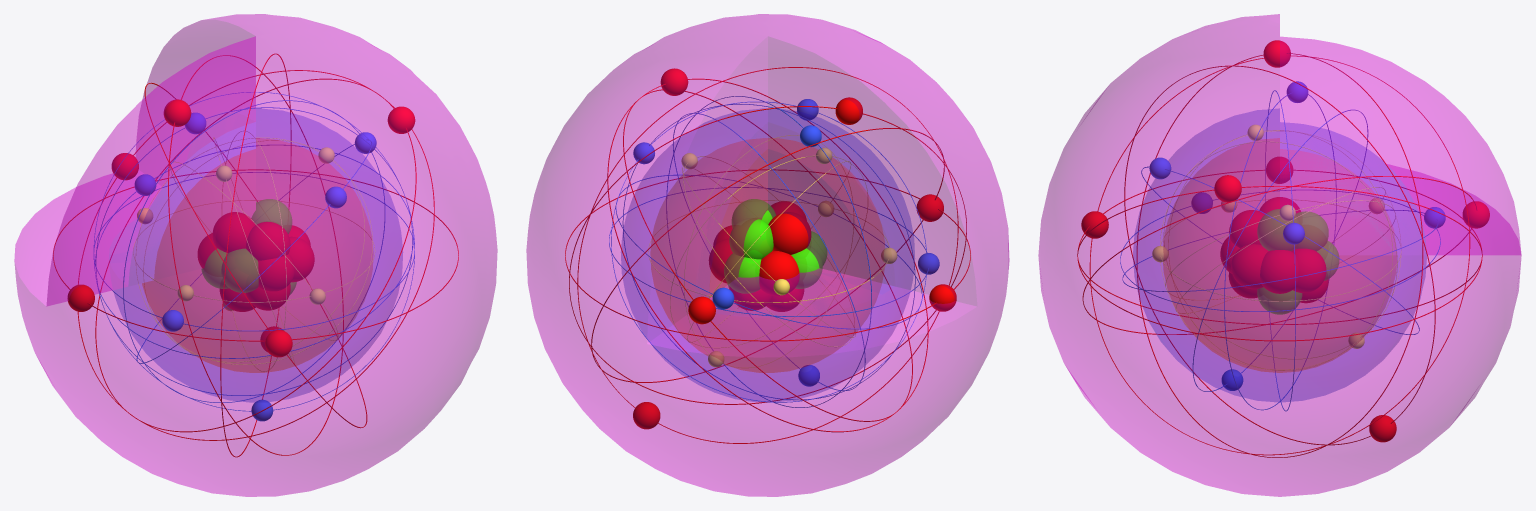
File: atom.glb
3 renders of one model, left to right at view 1: azimuth 30°, elevation 25°; view 2: azimuth 150°, elevation 25°; view 3: azimuth 270°, elevation 25°, orthographic.
Visible parts, largest first — view 1: atom_pink op_0, jadro_red op_0, elecrony_3ur_blue_0; view 2: atom_pink op_0, jadro_red op_0, elecrony_3ur_blue_0; view 3: atom_pink op_0, jadro_red op_0, elecrony_3ur_blue_0.
Part boxes in pixels (left/top/right/bottom): atom_pink op_0: left=14, top=14, right=497, bottom=496; jadro_red op_0: left=142, top=138, right=373, bottom=372; elecrony_3ur_blue_0: left=53, top=53, right=458, bottom=457; atom_pink op_0: left=526, top=14, right=1009, bottom=496; jadro_red op_0: left=650, top=138, right=884, bottom=372; elecrony_3ur_blue_0: left=565, top=67, right=970, bottom=443; atom_pink op_0: left=1038, top=14, right=1521, bottom=496; jadro_red op_0: left=1163, top=138, right=1396, bottom=372; elecrony_3ur_blue_0: left=1077, top=40, right=1489, bottom=457.
Size of the model in its own units: 0.3398 by 0.3398 by 0.3398.
3 materials, 3 textured.
